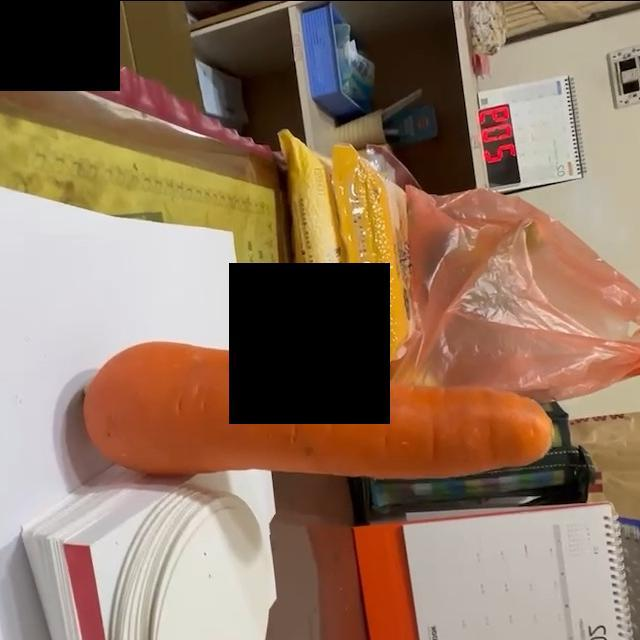carrot: (80, 338, 558, 481)
